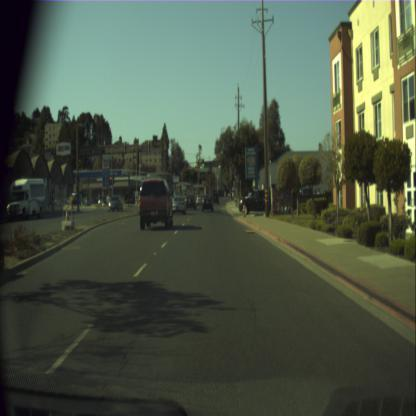Green: (202, 158, 204, 167)
Red: (110, 174, 112, 184)
